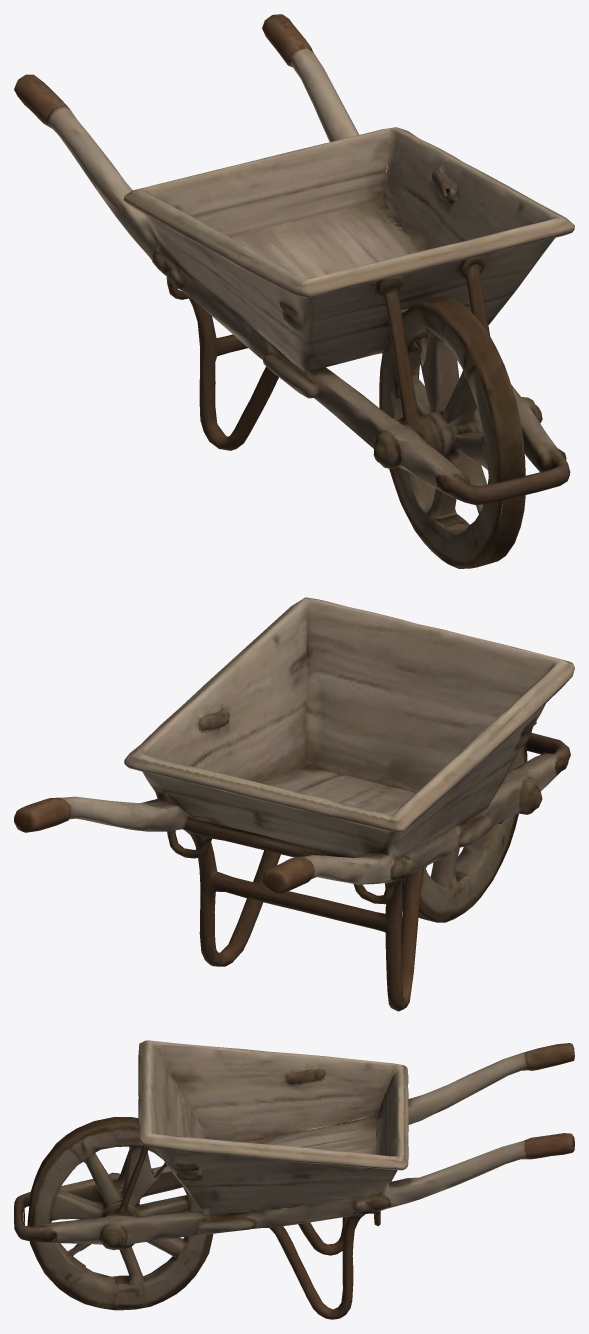
The model's file is carretilla.glb.
3 views of the same model, one above another, from view 1: azimuth 30°, elevation 25°; view 2: azimuth 150°, elevation 25°; view 3: azimuth 270°, elevation 25° (orthographic). The views are drawn at different scales.
Visible parts, largest first — view 1: geometry_0; view 2: geometry_0; view 3: geometry_0.
Part boxes in pixels (<box>): geometry_0: <box>14,14,574,568</box>; geometry_0: <box>14,597,574,1011</box>; geometry_0: <box>14,1040,574,1319</box>.
Size of the model in its own units: 0.6501 by 0.65 by 1.5.
Materials: 1 (1 with a texture image).
